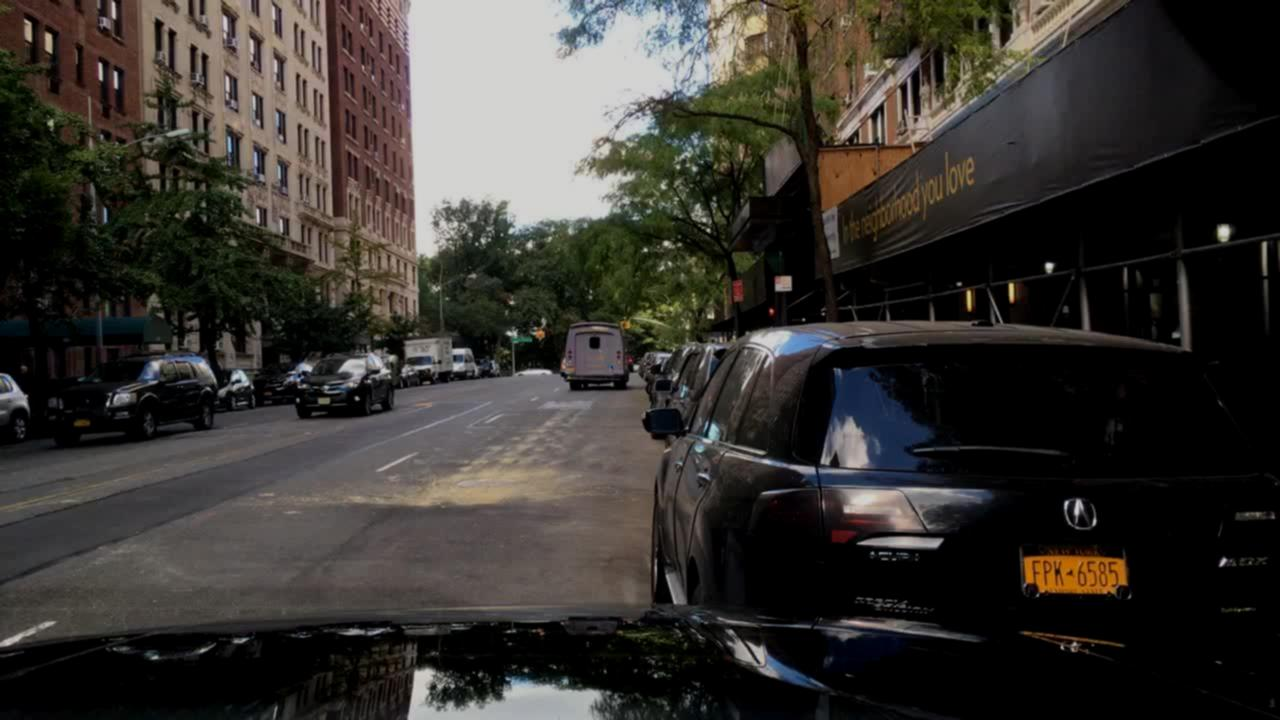acura: (1045, 486, 1116, 536)
